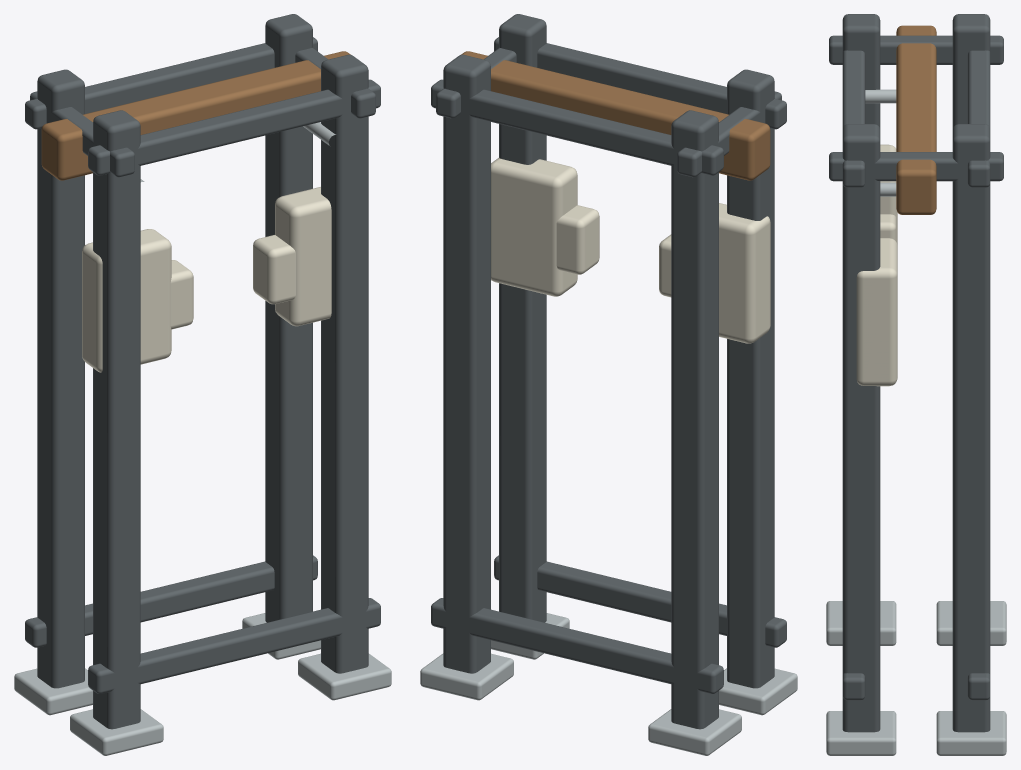
The model's file is glassblowing-studio-and-gallery-heatproof-glove-rack-36c89553__29613.glb.
3 renders of one model, left to right at view 1: azimuth 30°, elevation 25°; view 2: azimuth 150°, elevation 25°; view 3: azimuth 270°, elevation 25°, orthographic.
Visible parts, largest first — view 1: heatproof-glove-rack; view 2: heatproof-glove-rack; view 3: heatproof-glove-rack.
Boxes of the visible parts, x1,y1,x2,y2 form: heatproof-glove-rack: (14, 14, 391, 755); heatproof-glove-rack: (420, 14, 797, 755); heatproof-glove-rack: (826, 14, 1006, 755).
Size of the model in its own units: 0.7 by 1.35 by 0.36.
